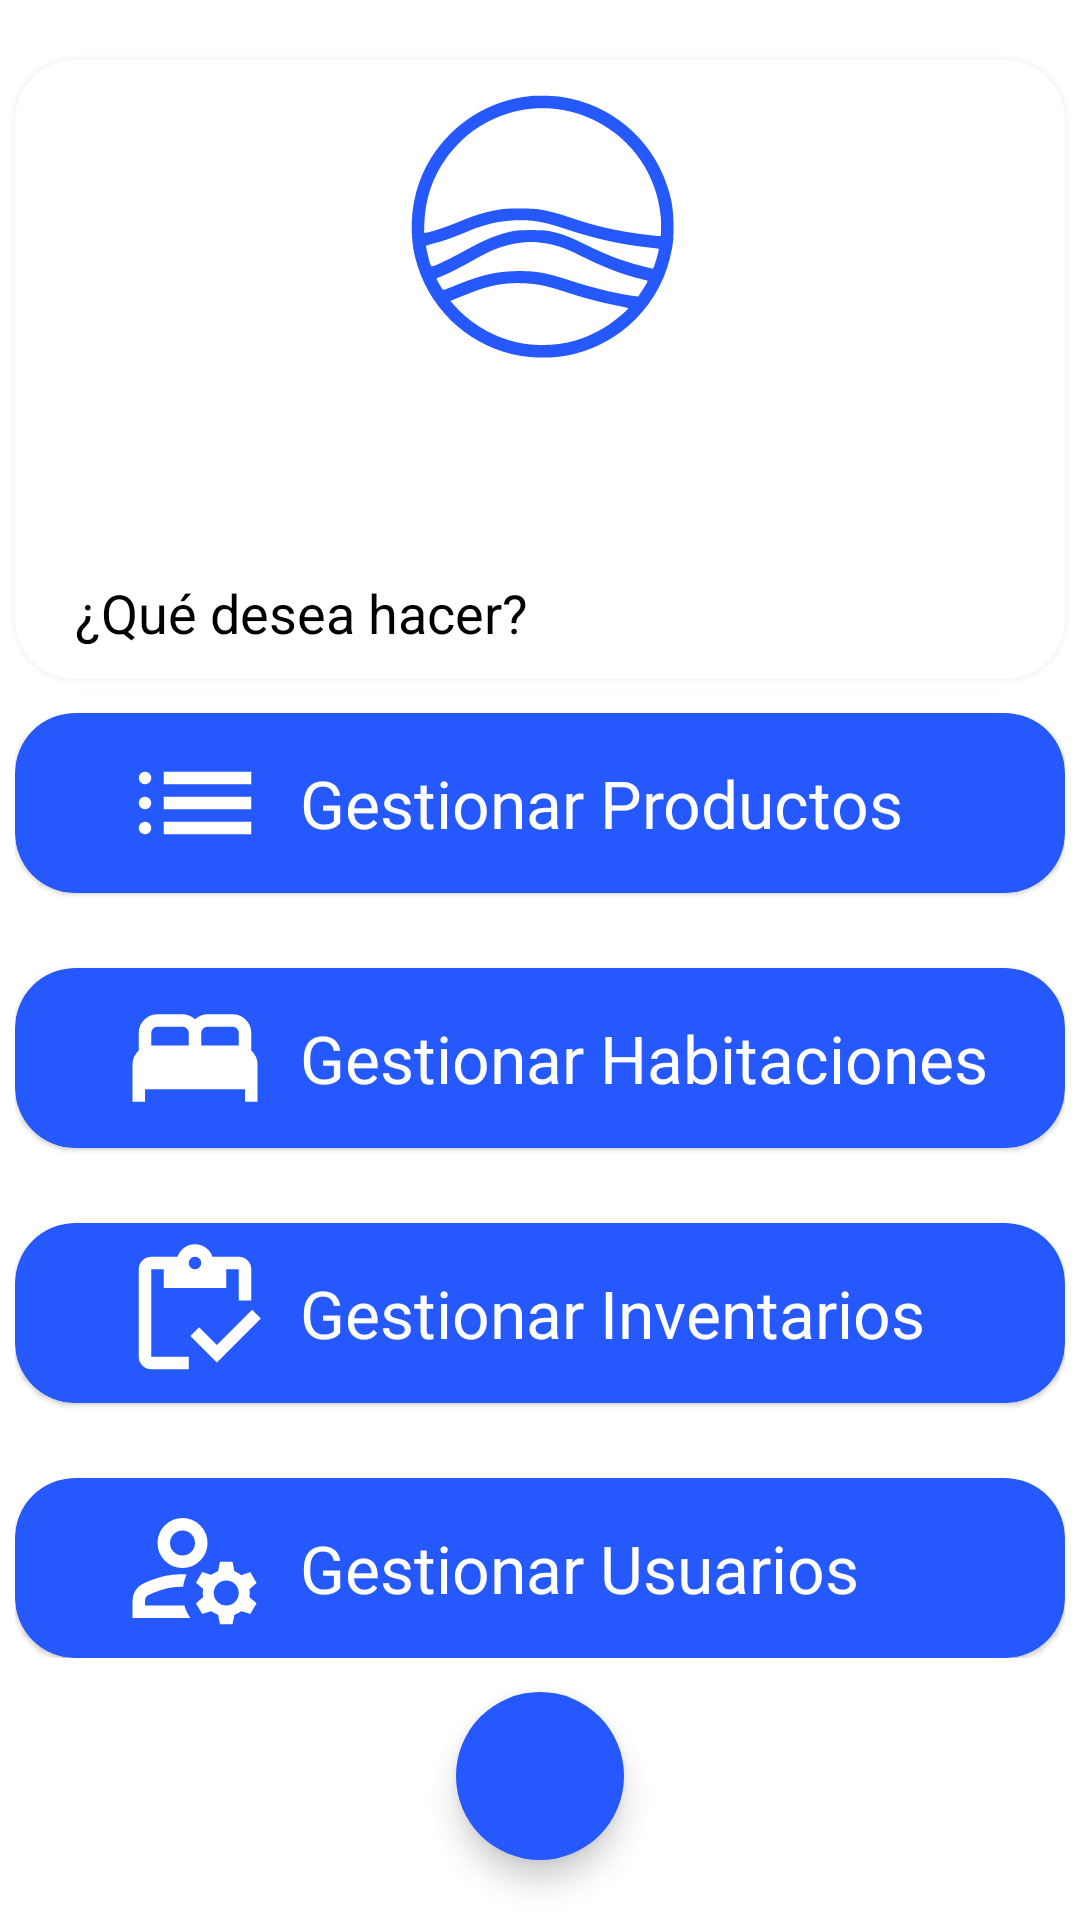

Point at icon controls on the screen. Image size 1080×1920, points as [x,y].
gestionar inventarioo: [199,1307]
lista: [195,803]
